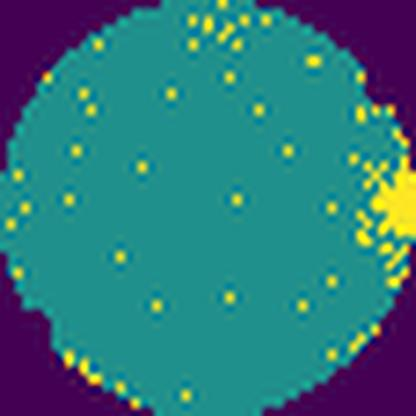Edge-Loc: (358, 138, 416, 275)
